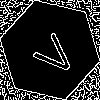V: (25, 25, 80, 81)
